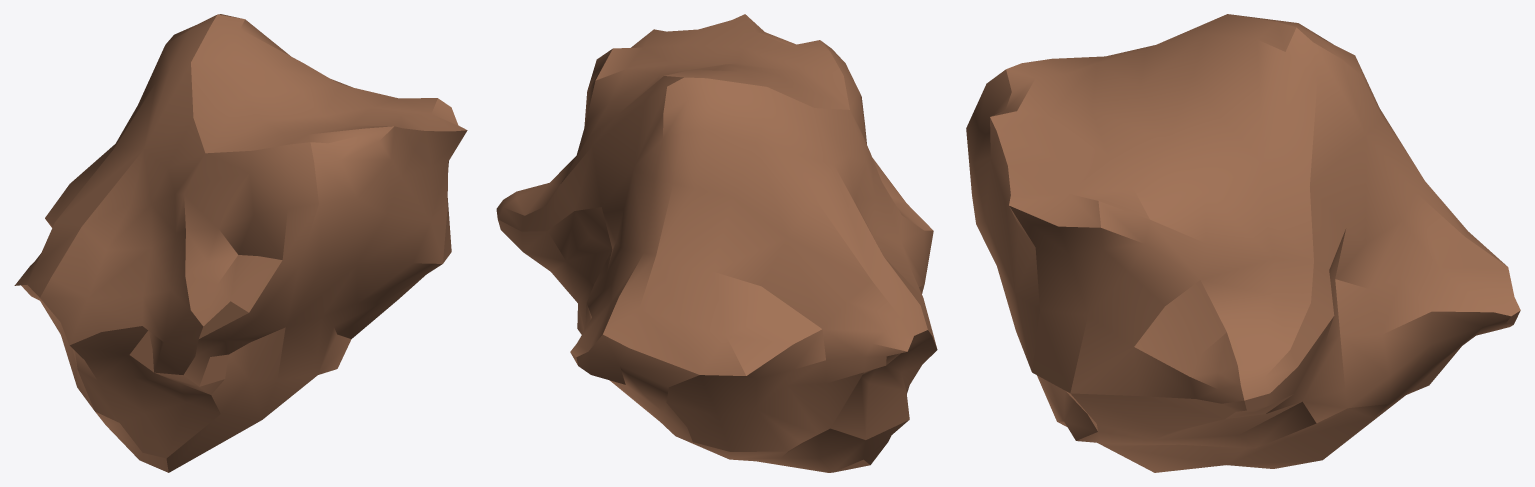
Rendered from rock_big_2.fbx.
3 views of the same model, side by side, from view 1: azimuth 30°, elevation 25°; view 2: azimuth 150°, elevation 25°; view 3: azimuth 270°, elevation 25° (orthographic). The views are drawn at different scales.
Visible parts, largest first — view 1: Retopo_Rock generator addon.005; view 2: Retopo_Rock generator addon.005; view 3: Retopo_Rock generator addon.005.
Boxes of the visible parts, <box> form: Retopo_Rock generator addon.005: <box>14,14,467,472</box>; Retopo_Rock generator addon.005: <box>496,14,937,472</box>; Retopo_Rock generator addon.005: <box>966,14,1520,472</box>.
Bounding box in the file's own units: 116 × 104 × 105.
